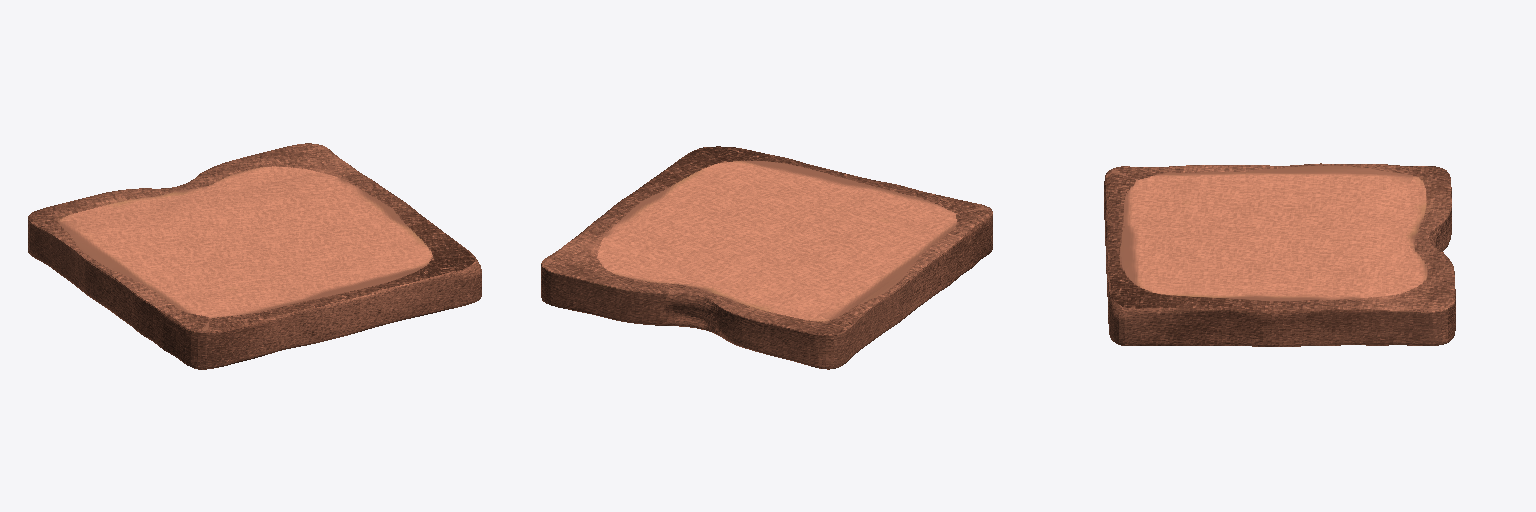
3 renders of one model, left to right at view 1: azimuth 30°, elevation 25°; view 2: azimuth 150°, elevation 25°; view 3: azimuth 270°, elevation 25°, orthographic.
Parts seen in each view (by area): view 1: Cube_Cube.001; view 2: Cube_Cube.001; view 3: Cube_Cube.001.
Boxes of the visible parts, x1,y1,x2,y2 form: Cube_Cube.001: [28, 143, 481, 369]; Cube_Cube.001: [541, 146, 992, 369]; Cube_Cube.001: [1104, 163, 1455, 346].
Bounding box in the file's own units: 2 × 0.2476 × 2.
1 materials, 1 textured.